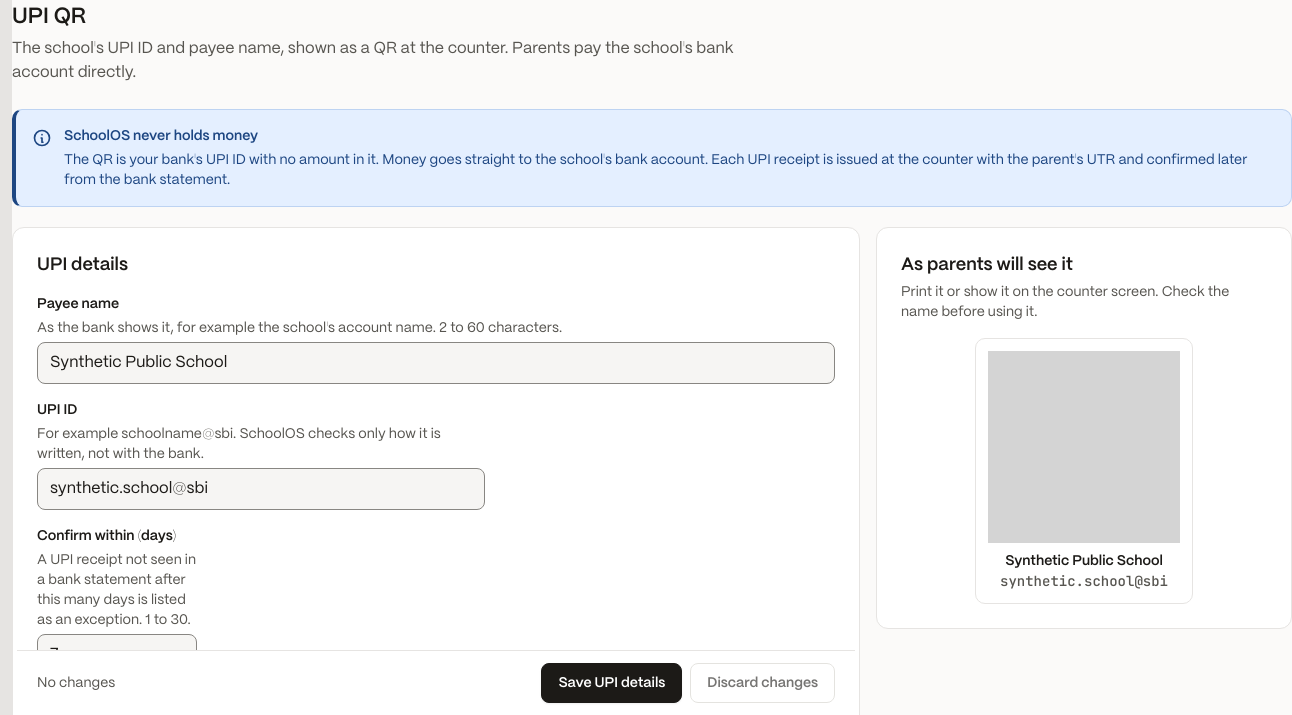
UPI settings (US-2109 AC1, FR-FEE-015) › saves the payee name and UPI ID with If-Match and previews the static QR
The width and height of the screenshot is (1292, 715).
Expected: the text "SchoolOS never holds money" is shown, [64, 129, 258, 143]
Replace the text in the field labelled "UPI ID" with "not a upi id". click: (261, 489)
box: [37, 468, 485, 510]
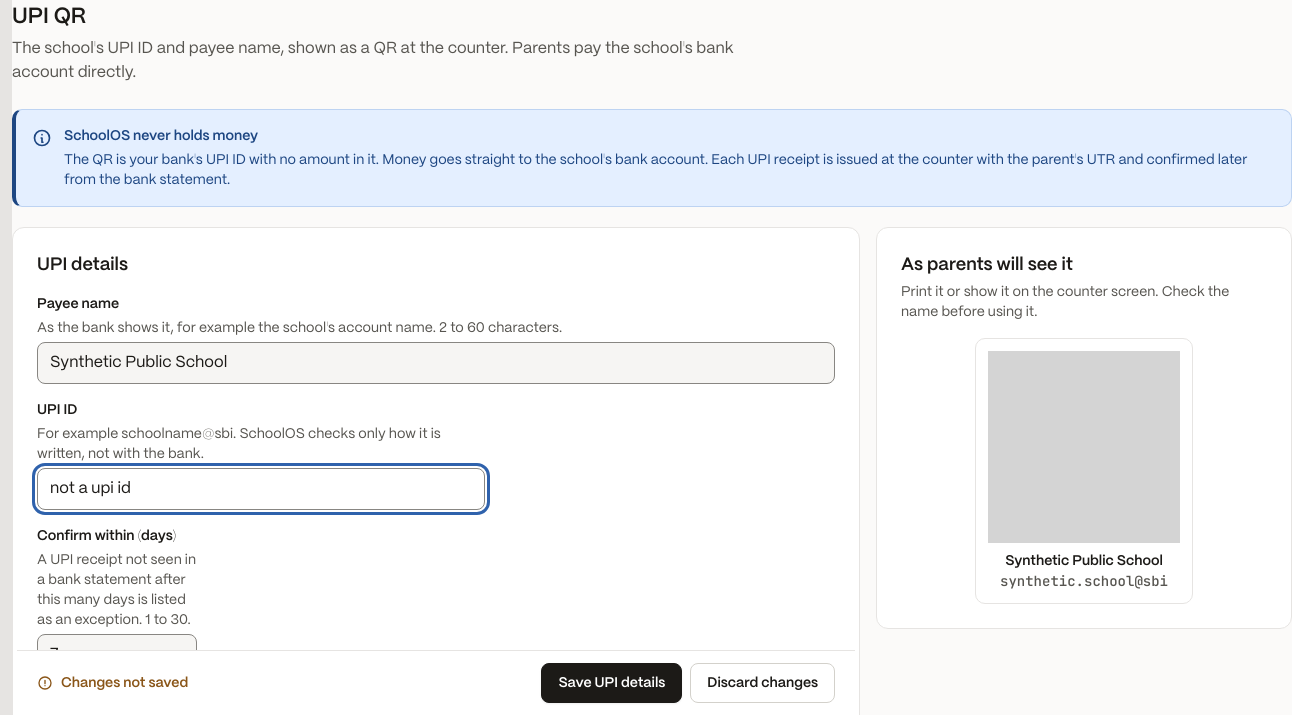
Click the button "Save UPI details". click: (612, 683)
box: [542, 663, 682, 703]
(page scrolled)
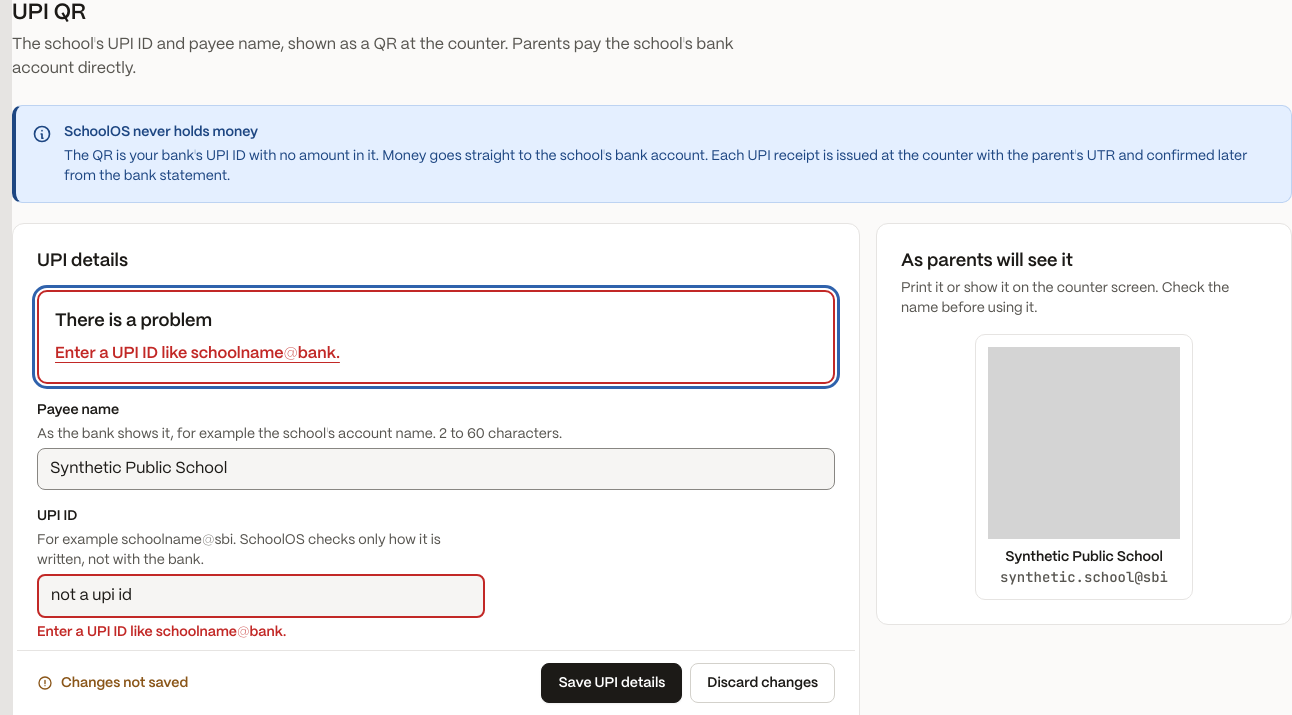
Now the number of links "Enter a UPI ID like schoolname@bank." is 2, box [55, 346, 340, 361]; [37, 625, 286, 639]
Replace the text in the field labelled "UPI ID" with "school.fees@hdfcbank". click: (261, 596)
box: [37, 574, 485, 618]
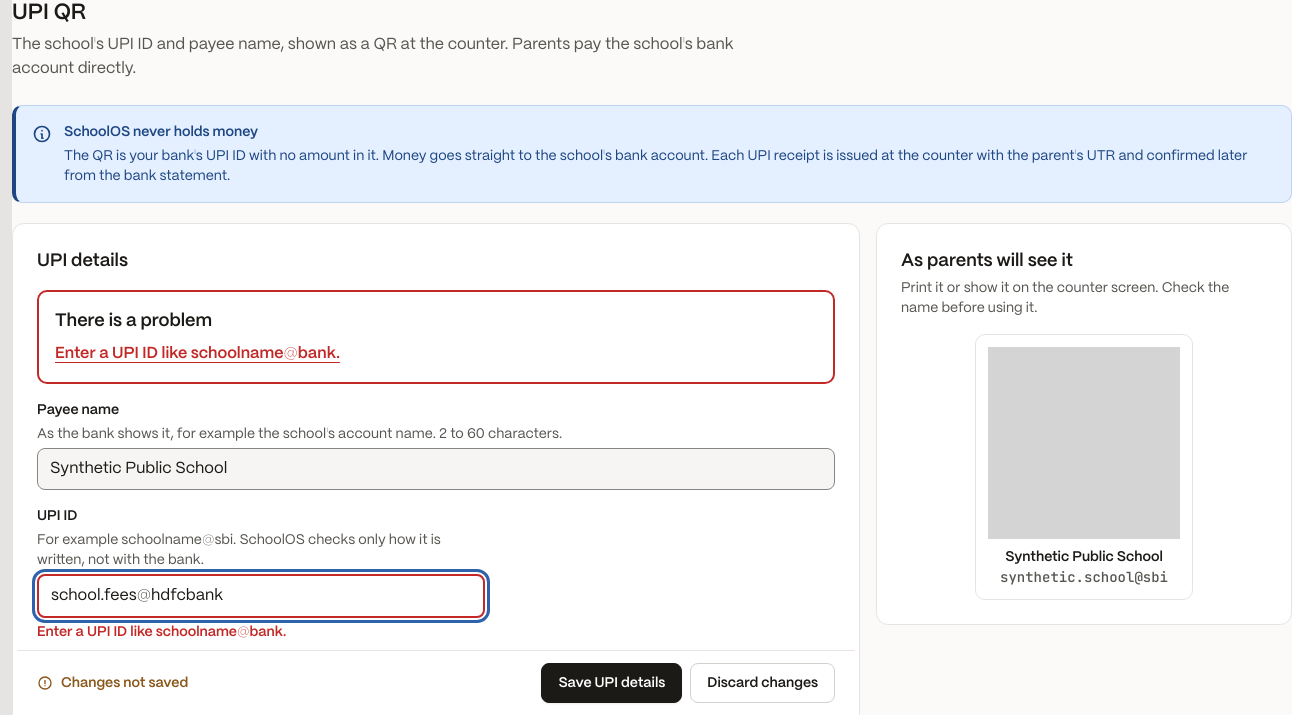
Press Enter
(page scrolled)
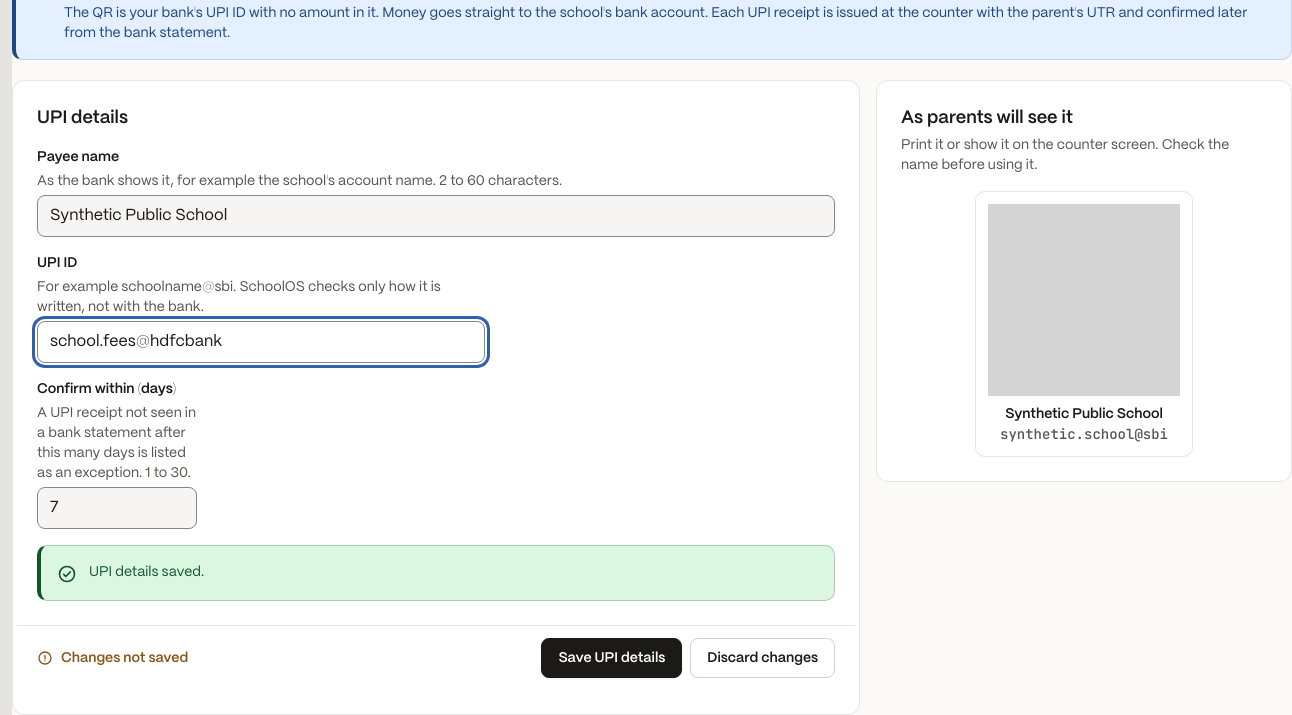
Now the text "UPI details saved." is shown, box [89, 565, 204, 579]
